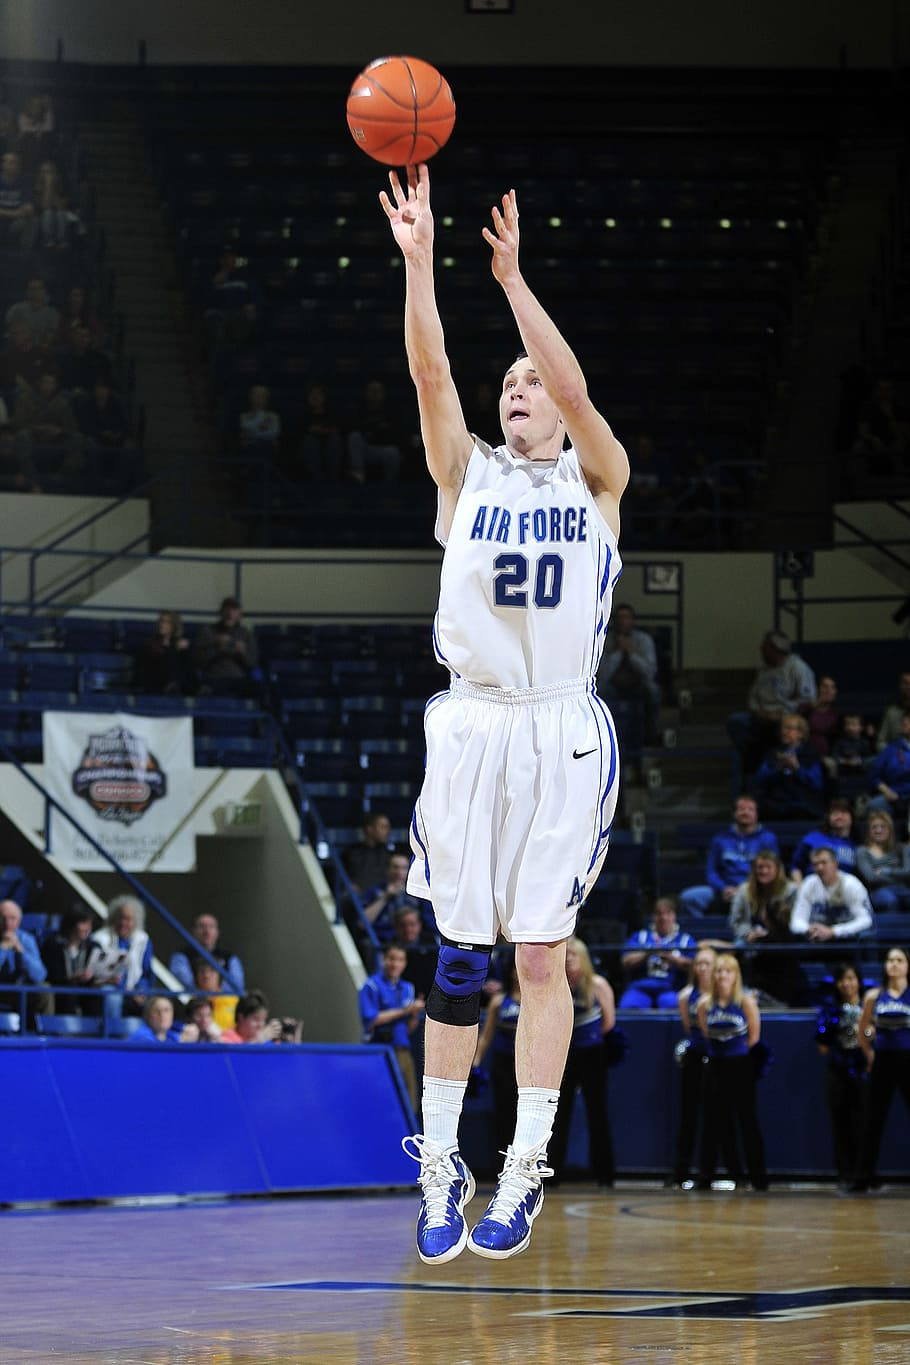Jumpshot: (344, 56, 586, 399)
